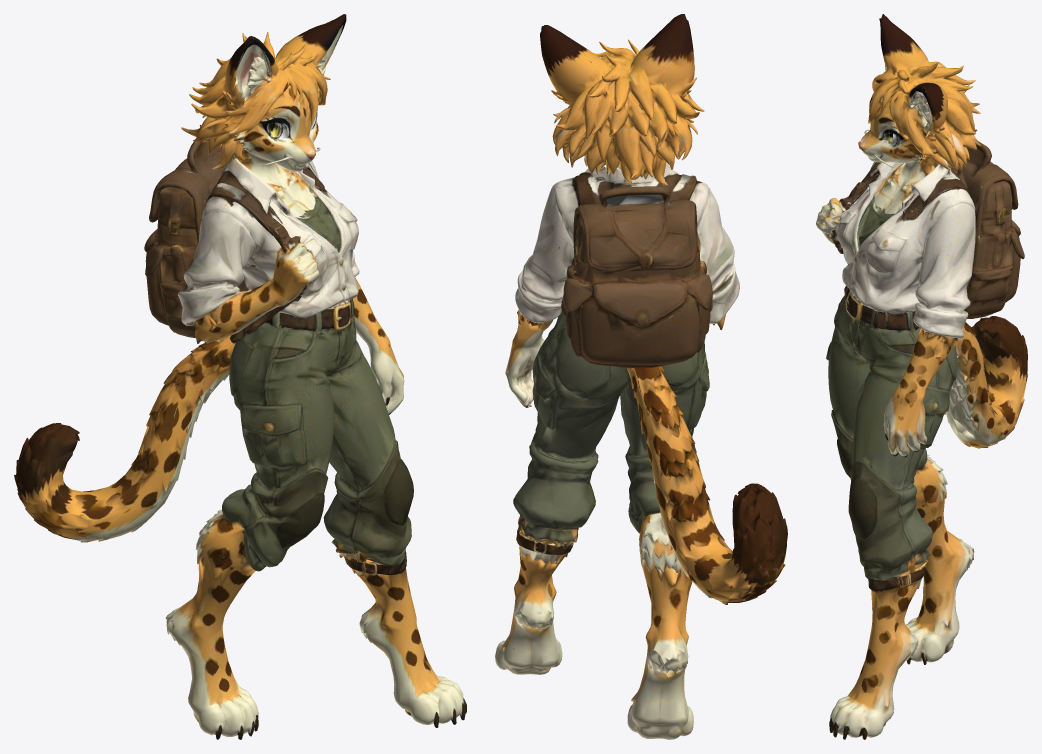
The model's file is felaryn.glb.
3 views of the same model, side by side, from view 1: azimuth 30°, elevation 25°; view 2: azimuth 150°, elevation 25°; view 3: azimuth 270°, elevation 25° (orthographic). The views are drawn at different scales.
Size of the model in its own units: 1.02 by 1.9 by 0.5695.
1 material, 1 textured.
